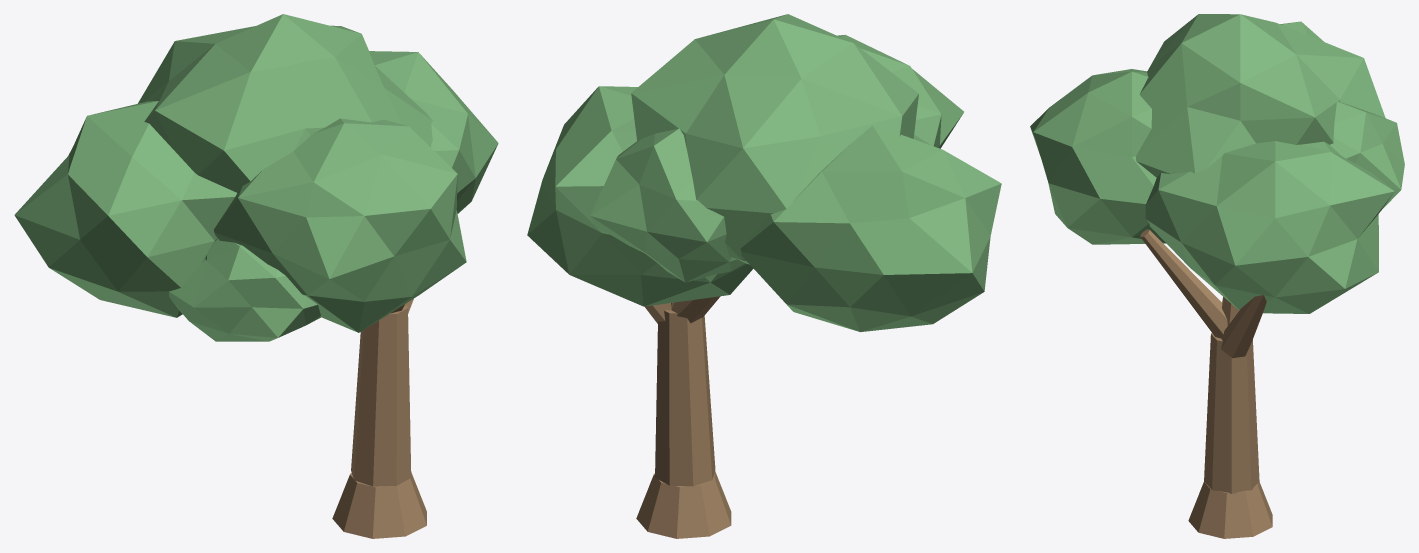
The model's file is baum_eiche.glb.
The picture shows the model from 3 angles, left to right: view 1: azimuth 30°, elevation 25°; view 2: azimuth 150°, elevation 25°; view 3: azimuth 270°, elevation 25°; orthographic projection. The views are drawn at different scales.
Parts seen in each view (by area): view 1: Eiche_Laub, Eiche_Stamm; view 2: Eiche_Laub, Eiche_Stamm; view 3: Eiche_Laub, Eiche_Stamm.
Boxes of the visible parts, x1,y1,x2,y2 form: Eiche_Laub: [14, 14, 498, 341]; Eiche_Stamm: [332, 298, 426, 538]; Eiche_Laub: [527, 14, 1001, 332]; Eiche_Stamm: [636, 296, 731, 538]; Eiche_Laub: [1030, 14, 1404, 313]; Eiche_Stamm: [1140, 229, 1272, 538].
Bounding box in the file's own units: 5.28 × 5.92 × 4.31.
